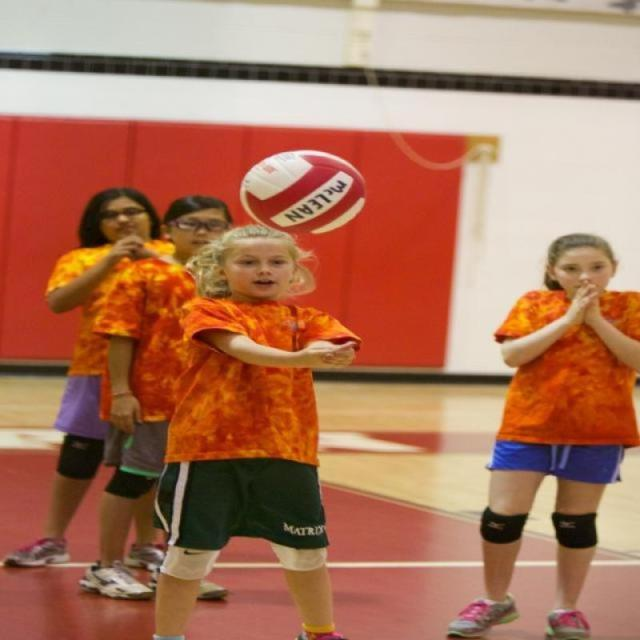volleyball: (237, 148, 366, 234)
